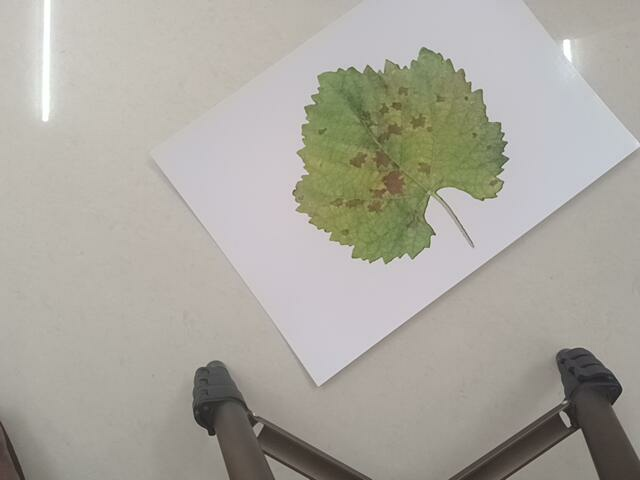Grape_Leaf_Vine_Disease: (291, 26, 523, 276)
